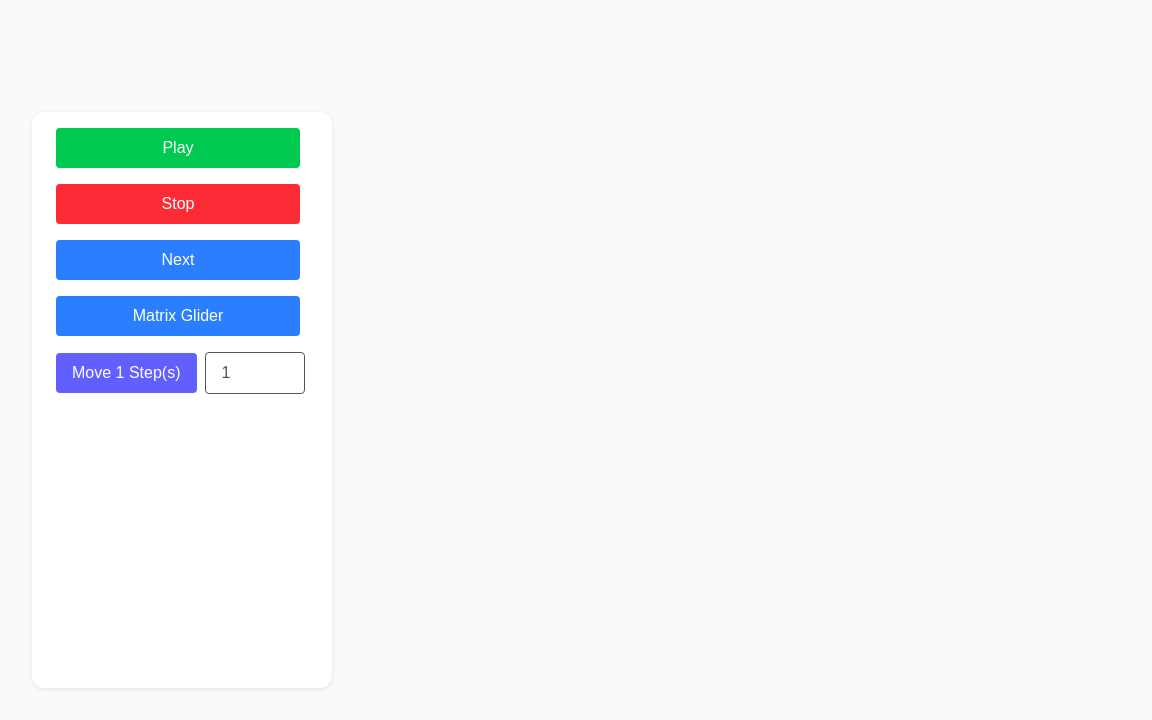
Test: Game Component › clicking Stop button sets playing state to false
# Start the game
Click the button "Play" at {"x": 178, "y": 148}, box [56, 128, 300, 168]
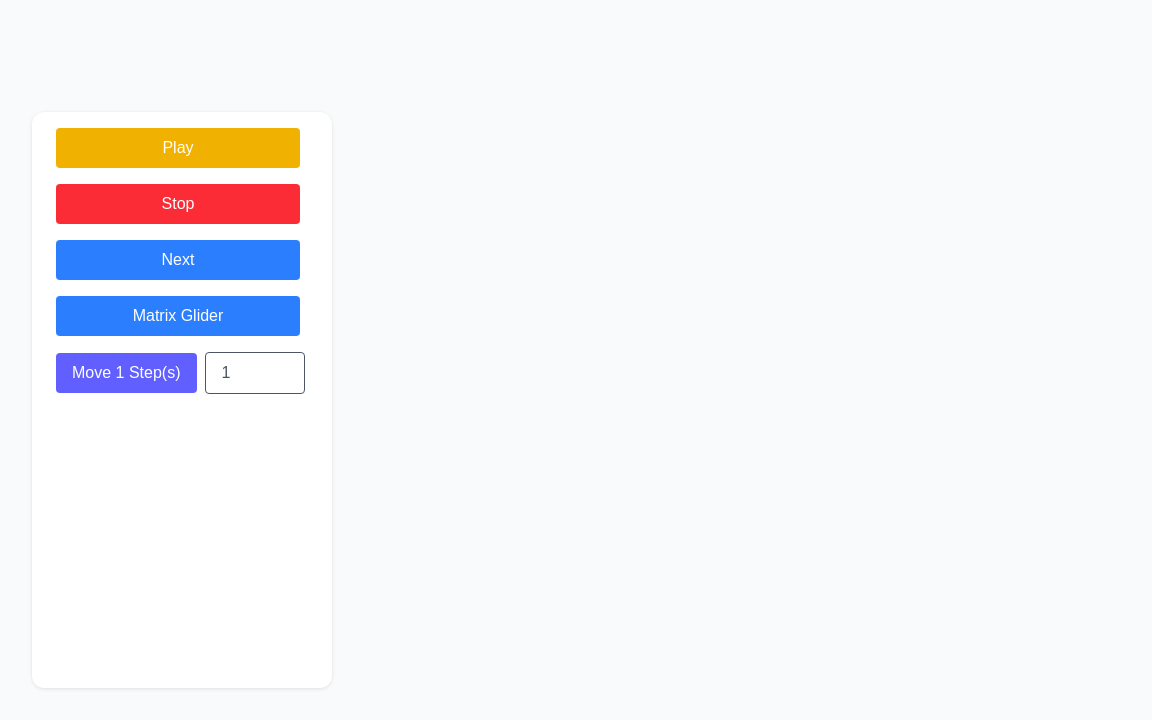
Click the button "Stop" at {"x": 178, "y": 204}, box [56, 184, 300, 224]
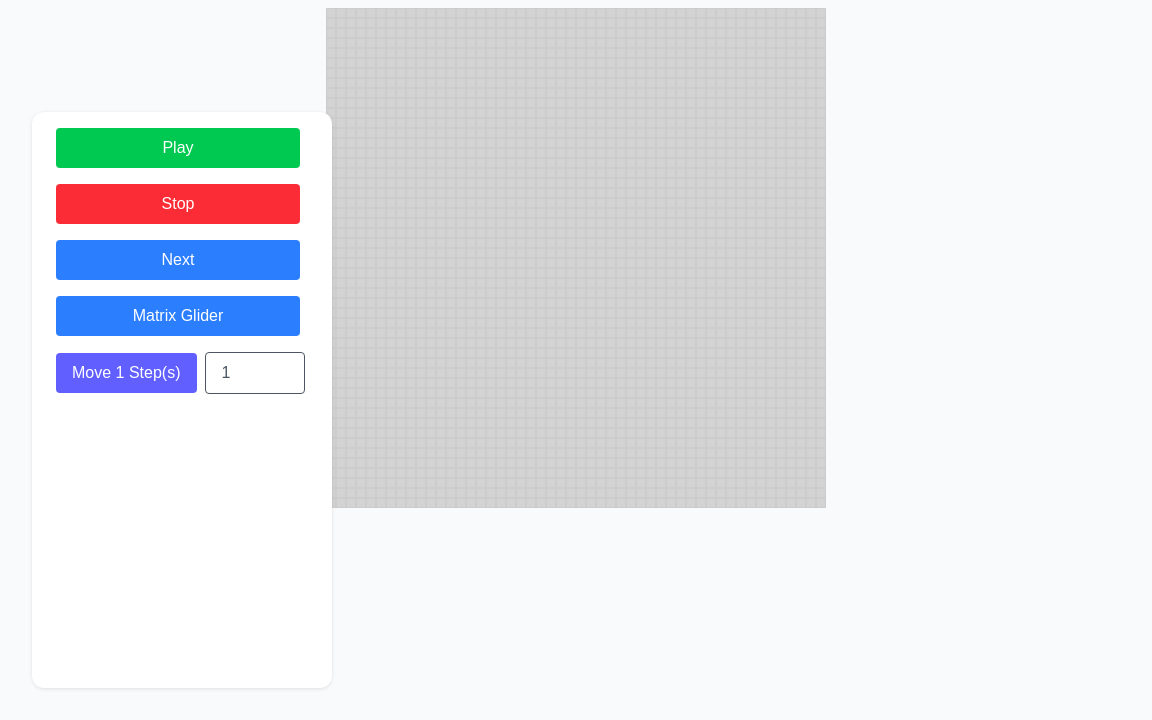
Result: the button "Play" is enabled at [56, 128, 300, 168]
